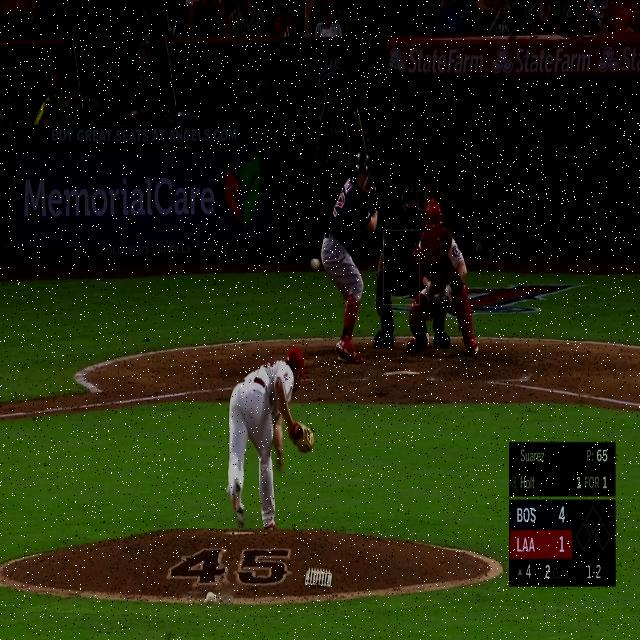baseball: (310, 258, 320, 270)
